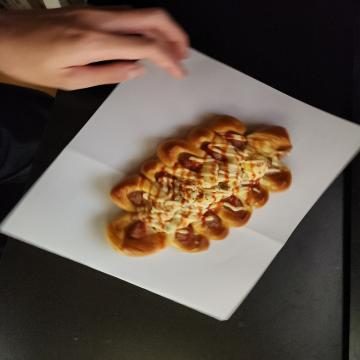pizza_bread: (114, 65, 258, 255)
